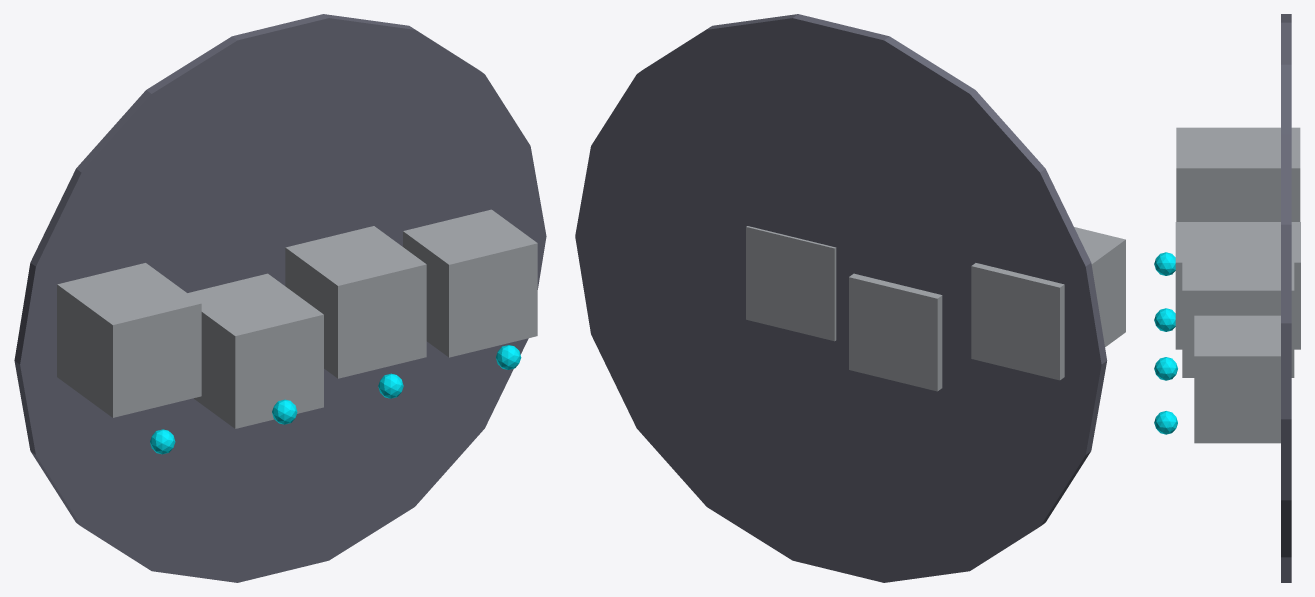
Rendered from 04_event_hazard_cluster.glb.
3 views of the same model, side by side, from view 1: azimuth 30°, elevation 25°; view 2: azimuth 150°, elevation 25°; view 3: azimuth 270°, elevation 25° (orthographic). The views are drawn at different scales.
Visible parts, largest first — view 1: scatter_base, tech_crate_0, tech_crate_1, tech_crate_2, tech_crate_3; view 2: scatter_base, tech_crate_0, tech_crate_1, tech_crate_2; view 3: tech_crate_3, tech_crate_0, tech_crate_2, scatter_base, tech_crate_1, status_light_2, status_light_3, status_light_0, status_light_1.
Part boxes in pixels (left/top/right/bottom): scatter_base: left=14, top=14, right=546, bottom=582; tech_crate_0: left=57, top=263, right=201, bottom=417; tech_crate_1: left=187, top=273, right=323, bottom=428; tech_crate_2: left=285, top=226, right=426, bottom=378; tech_crate_3: left=403, top=209, right=537, bottom=357; scatter_base: left=575, top=14, right=1107, bottom=582; tech_crate_0: left=971, top=227, right=1125, bottom=380; tech_crate_1: left=849, top=273, right=942, bottom=391; tech_crate_2: left=746, top=226, right=836, bottom=341; tech_crate_3: left=1194, top=315, right=1280, bottom=443; tech_crate_0: left=1176, top=127, right=1300, bottom=221; tech_crate_2: left=1182, top=250, right=1294, bottom=377; scatter_base: left=1281, top=14, right=1291, bottom=582; tech_crate_1: left=1175, top=222, right=1300, bottom=349; status_light_2: left=1154, top=357, right=1177, bottom=380; status_light_3: left=1154, top=411, right=1177, bottom=434; status_light_0: left=1154, top=252, right=1175, bottom=275; status_light_1: left=1154, top=308, right=1175, bottom=331.
Bounding box in the file's own units: 1.9 × 1.87 × 0.4881.
